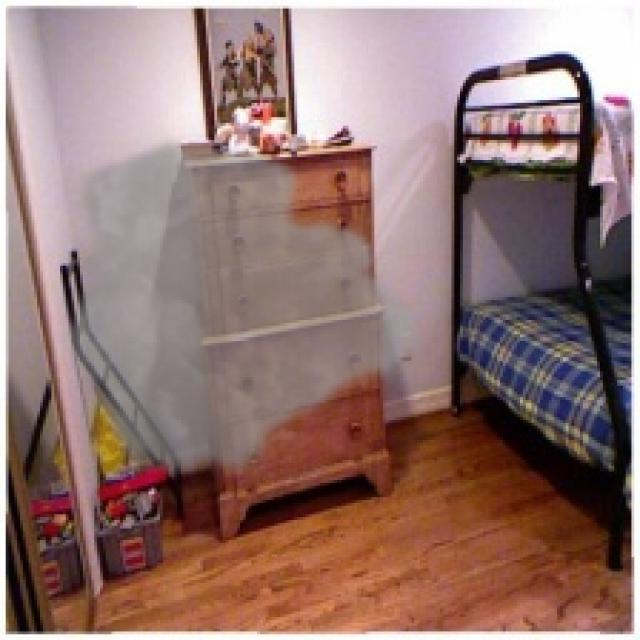Smoke: (62, 134, 432, 486)
